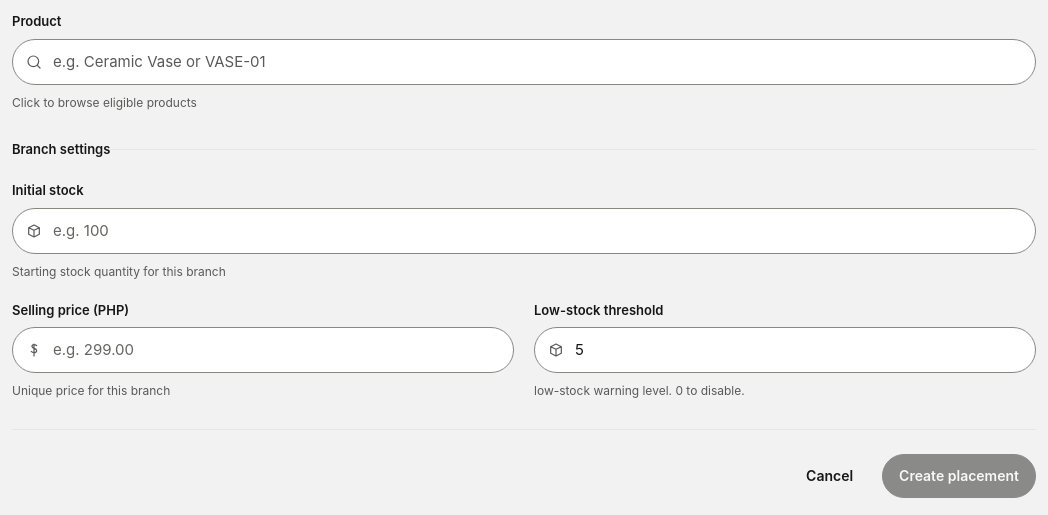
Test: InventoryPlacementForm › retries a failed later candidate page without losing the current choice
What coordinates should you click on to do the following:
click the dropdown labelled "Product"
I would click on:
 (524, 62)
Its box is left=12, top=38, right=1036, bottom=84.
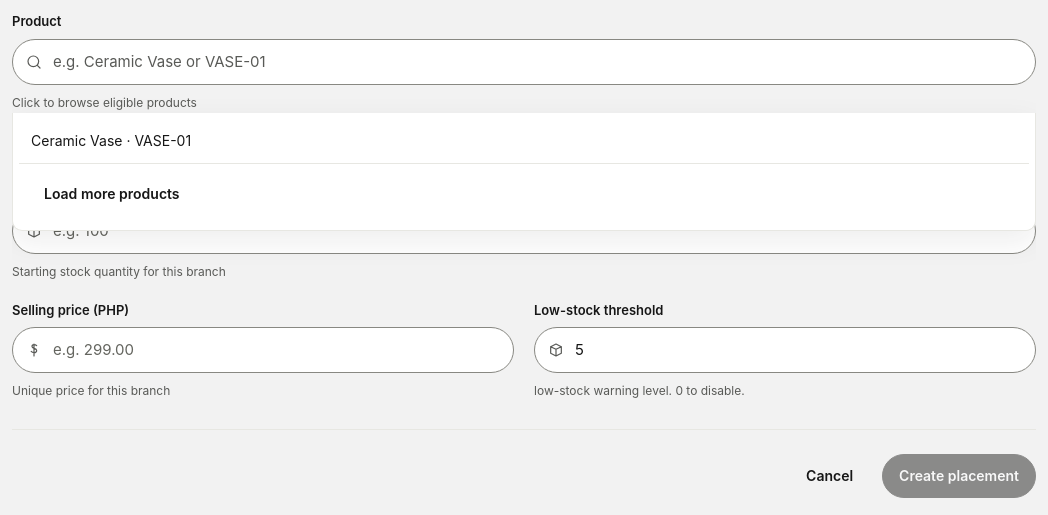
What coordinates should you click on to do the following:
click the button "Load more products"
I would click on:
 (112, 194)
Its box is left=27, top=172, right=197, bottom=216.
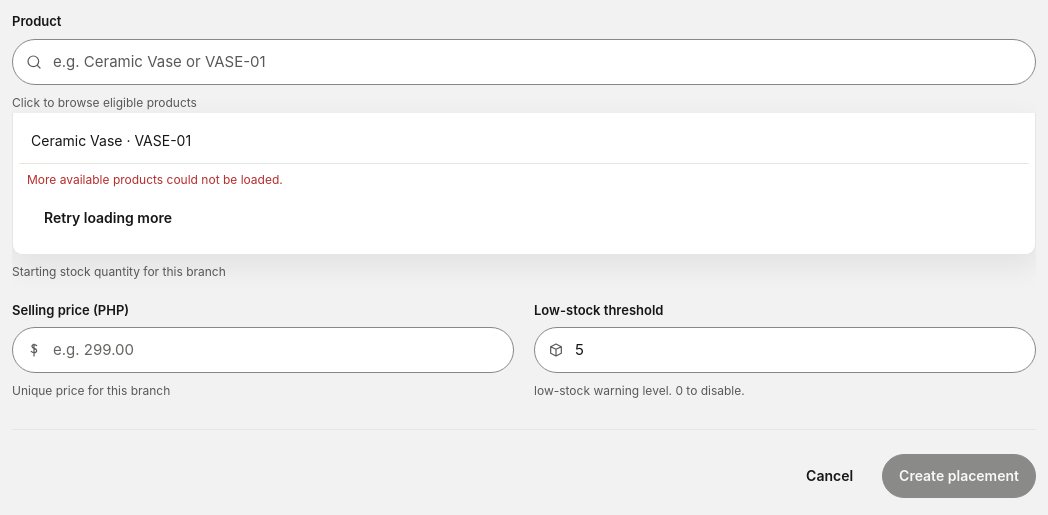
expect the message shows "More available products could not be loaded": met, box left=27, top=172, right=283, bottom=186
What coordinates should you click on to do the following:
click the button "Retry loading more"
I would click on:
 (108, 218)
Its box is left=27, top=196, right=189, bottom=240.
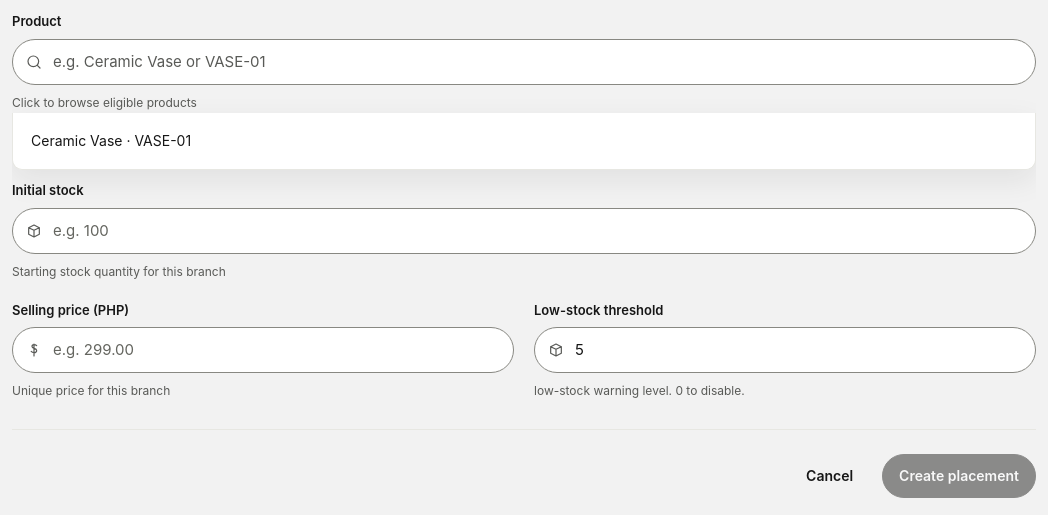
expect the button "Retry loading more" is gone: met
